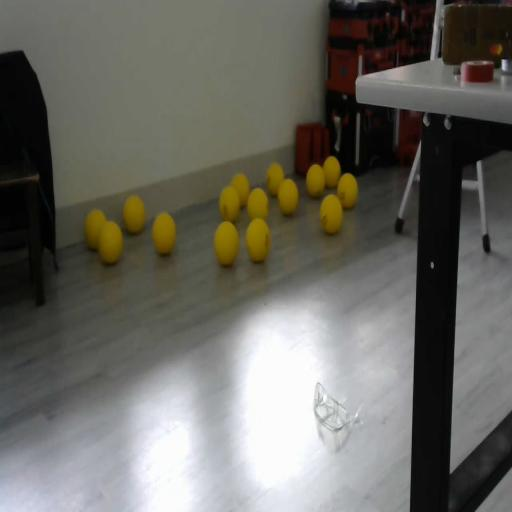FUEL: (212, 219, 240, 267), (151, 210, 177, 256), (246, 218, 270, 262), (319, 192, 343, 234), (84, 207, 107, 250), (122, 194, 145, 234), (277, 177, 299, 216), (218, 184, 240, 223), (246, 188, 269, 222), (337, 173, 358, 209), (305, 163, 326, 198), (322, 155, 342, 188)
